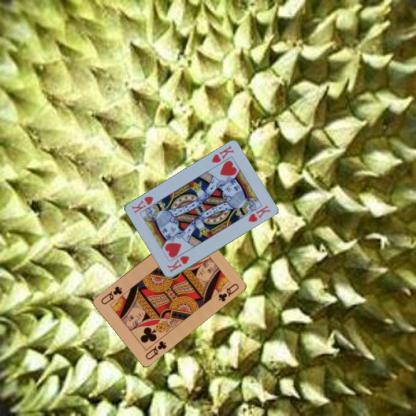Kh: (208, 143, 236, 164), (164, 253, 191, 274)
Qc: (143, 338, 168, 361)
